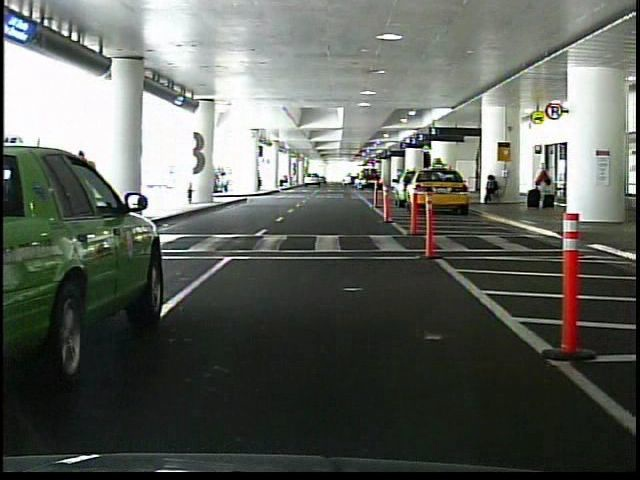person: (78, 149, 101, 223), (536, 162, 555, 210), (482, 172, 502, 205)
